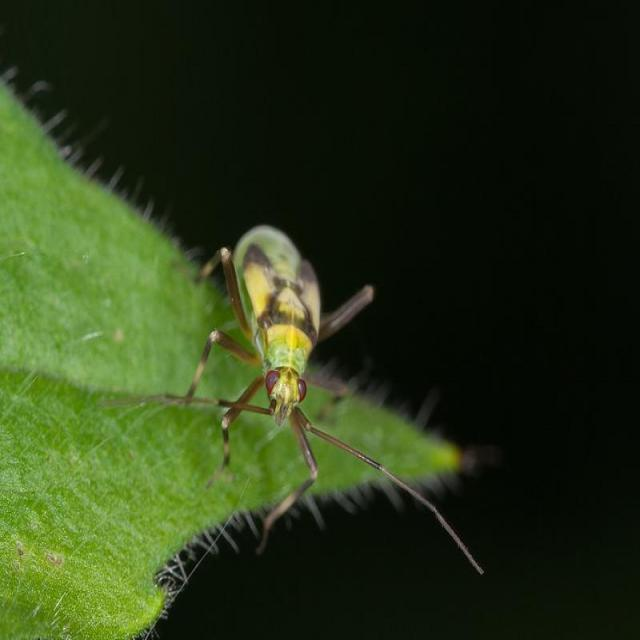Miridae-Adult-: (163, 212, 412, 506)
